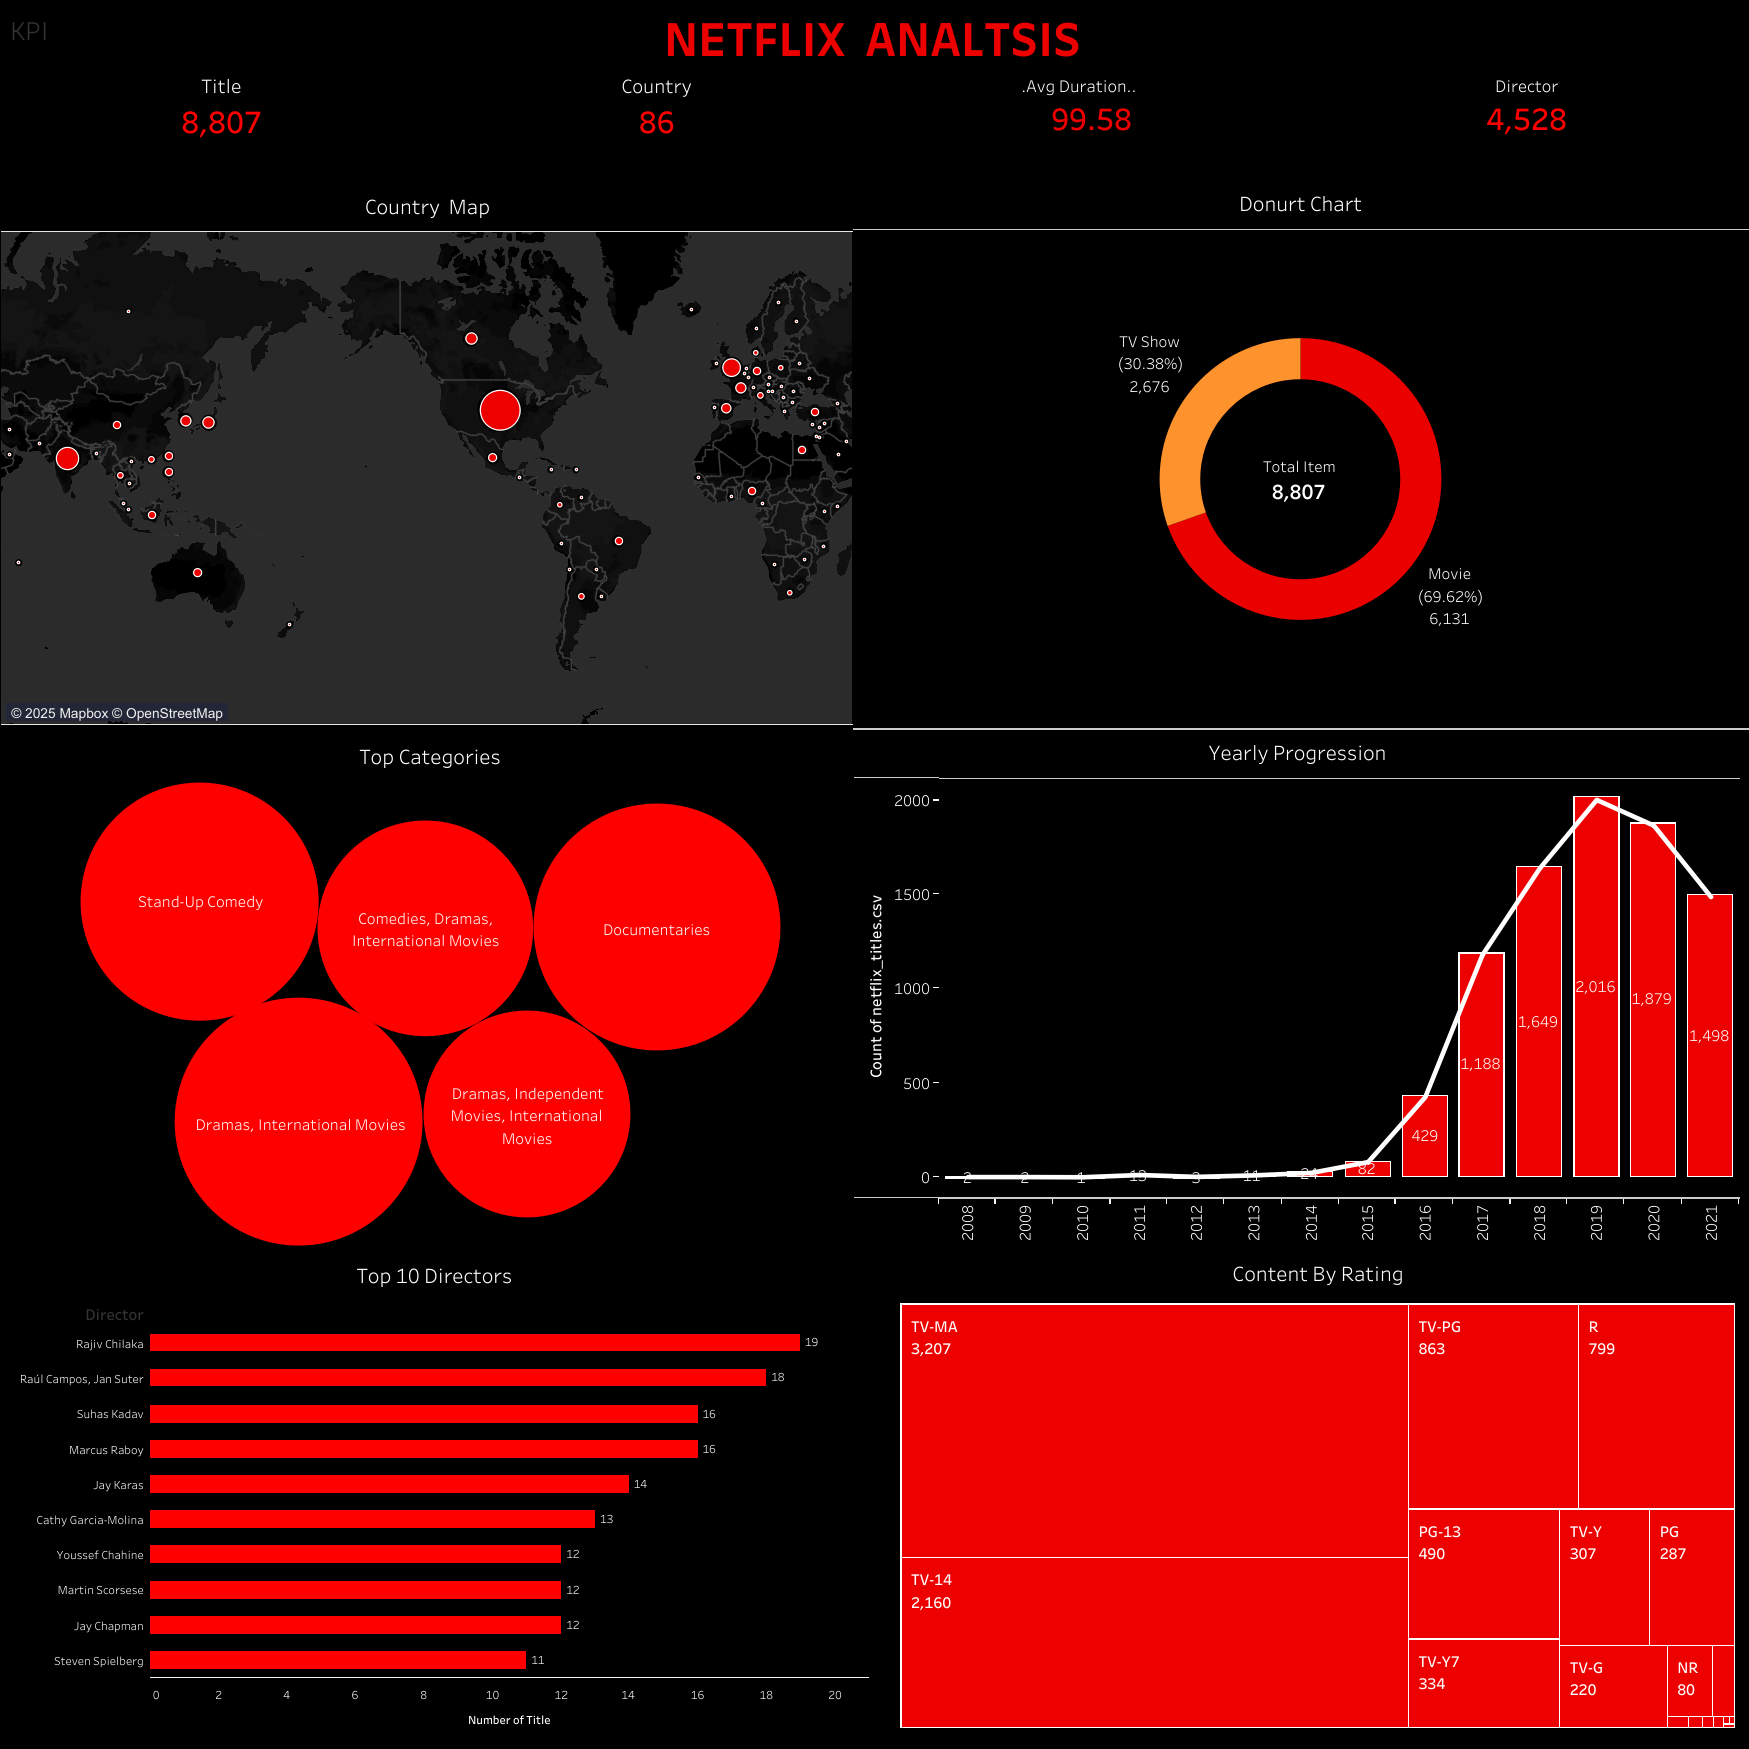

What the dashboard file says about the page in this screenshot:
{"tool":"tableau","page":{"name":"NETFLIX ANALYSIS","canvas":[1400,1400],"ordinal":0},"visuals":[{"type":"worksheet","title":"KPI","mark":"Text","cols":["Calculation_433753004427333640","Calculation_433753004427370506","Calculation_433753004427370506","Calculation_433753004427370506"],"box":[0,0,1400,1400]},{"type":"text","box":[2,0,1392,58]},{"type":"worksheet","title":"Donut Chart","mark":"Pie","rows":["Calculation_433753004405551105","Calculation_433753004405600259"],"box":[682,145,717,439]},{"type":"worksheet","title":"Country Map","mark":"Circle","box":[1,147,682,434]},{"type":"worksheet","title":"Yearly Progression","mark":"Bar","rows":["netflix_titles.csv_09EE66EA18A645A78B12D3C61ED1F5C6","netflix_titles.csv_09EE66EA18A645A78B12D3C61ED1F5C6"],"cols":["date_added"],"box":[684,584,708,415]},{"type":"worksheet","title":"Top Categories","mark":"Circle","box":[2,587,684,410]},{"type":"worksheet","title":"Content By Rating","mark":"Square","box":[717,1001,675,386]},{"type":"worksheet","title":"Top 10 Directors","mark":"Bar","rows":["director"],"cols":["netflix_titles.csv_09EE66EA18A645A78B12D3C61ED1F5C6"],"box":[0,1002,695,387]}]}

Visuals, with their boxes in screenshot pixels (x1, y1, x2, y2), scaled from the page's 1400x1400 canvas onto the 1749x1749 screenshot:
"KPI" worksheet (Text marks): box(0, 0, 1748, 1748)
text: box(2, 0, 1742, 72)
"Donut Chart" worksheet (Pie marks): box(852, 181, 1748, 730)
"Country Map" worksheet (Circle marks): box(1, 184, 853, 726)
"Yearly Progression" worksheet (Bar marks): box(855, 730, 1739, 1248)
"Top Categories" worksheet (Circle marks): box(2, 733, 857, 1246)
"Content By Rating" worksheet (Square marks): box(896, 1251, 1739, 1733)
"Top 10 Directors" worksheet (Bar marks): box(0, 1252, 868, 1735)
